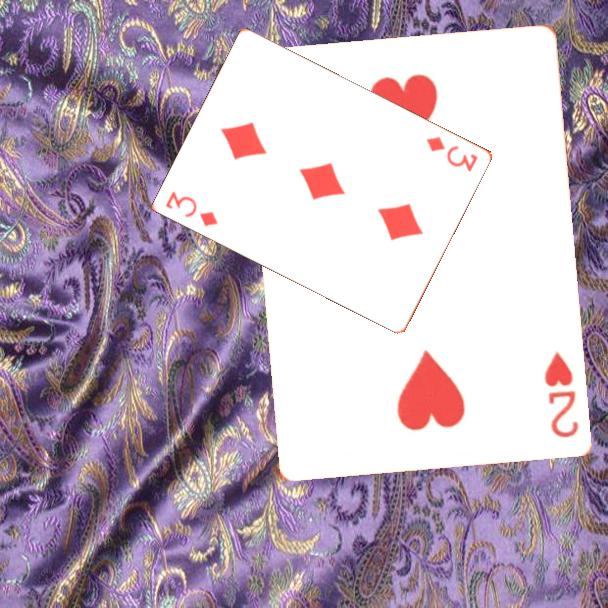d03: (162, 187, 222, 229), (423, 132, 481, 175)
h02: (540, 347, 581, 440)
